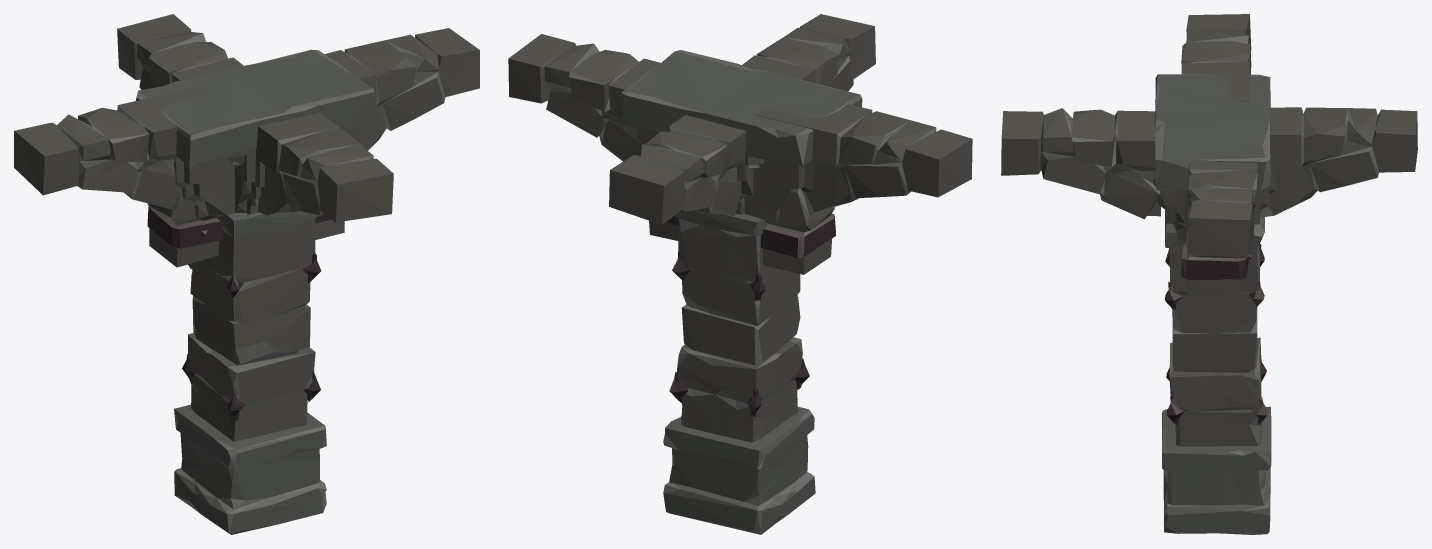
Rendered from MDungeons_Walls_Pillar_04.FBX.
The picture shows the model from 3 angles, left to right: view 1: azimuth 30°, elevation 25°; view 2: azimuth 150°, elevation 25°; view 3: azimuth 270°, elevation 25°; orthographic projection. The views are drawn at different scales.
Parts seen in each view (by area): view 1: MDungeons_Walls_Pillar_04_LOD0; view 2: MDungeons_Walls_Pillar_04_LOD0; view 3: MDungeons_Walls_Pillar_04_LOD0.
Part boxes in pixels (bbox=[...]): MDungeons_Walls_Pillar_04_LOD0: bbox=[14, 14, 479, 534]; MDungeons_Walls_Pillar_04_LOD0: bbox=[508, 14, 972, 534]; MDungeons_Walls_Pillar_04_LOD0: bbox=[1001, 14, 1417, 534].
Size of what is drawn, in the model's own units: 8.82 by 8.06 by 7.62.
